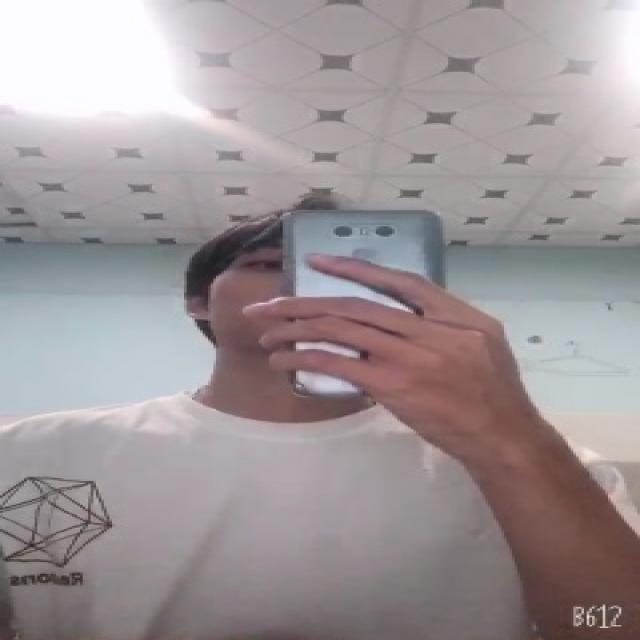Phone: (280, 208, 442, 403)
